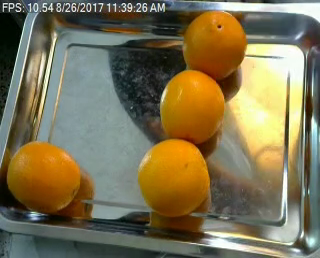Orange: (136, 138, 207, 216), (6, 141, 80, 213), (158, 70, 225, 148), (182, 9, 246, 79)
